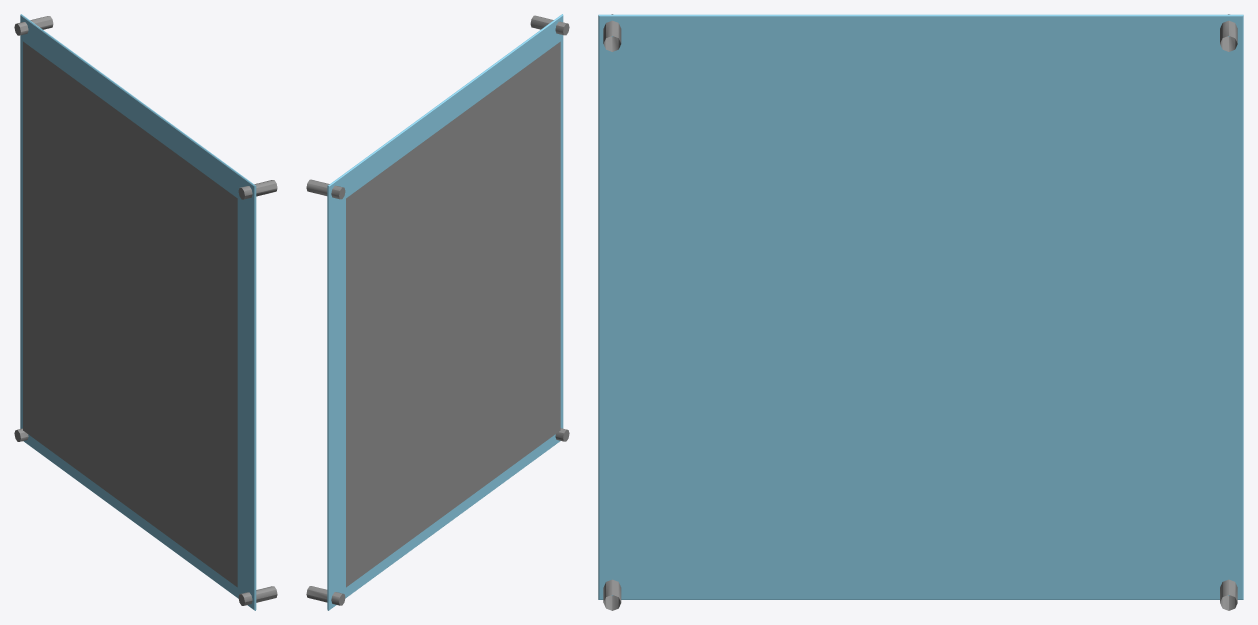
The model's file is Message_04.FBX.
3 views of the same model, side by side, from view 1: azimuth 30°, elevation 25°; view 2: azimuth 150°, elevation 25°; view 3: azimuth 270°, elevation 25° (orthographic). The views are drawn at different scales.
Parts seen in each view (by area): view 1: Message_04, Back_04; view 2: Message_04, Back_04; view 3: Back_04.
Boxes of the visible parts, x1,y1,x2,y2 form: Message_04: (23,41,237,587); Back_04: (14,14,277,610); Message_04: (346,41,560,587); Back_04: (306,14,569,610); Back_04: (598,14,1243,610).
Bounding box in the file's own units: 0.4822 × 6.01 × 6.01.
